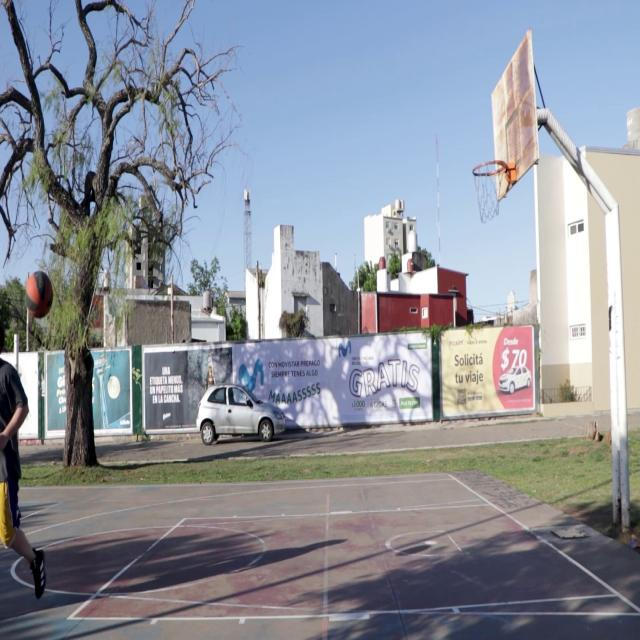ball: (25, 270, 53, 319)
